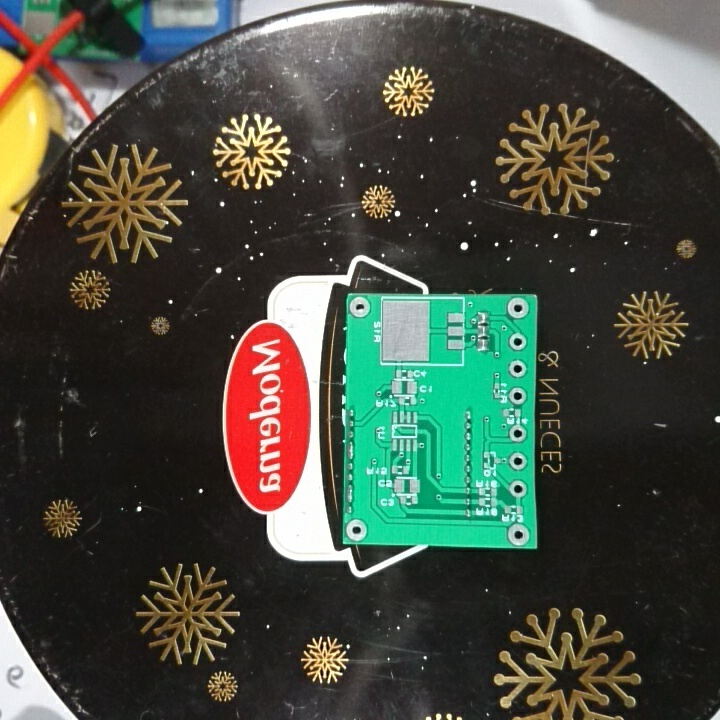F: (505, 519, 531, 546), (505, 295, 531, 321), (345, 515, 368, 540), (505, 451, 530, 472), (505, 357, 527, 380), (348, 297, 372, 318), (506, 330, 528, 352), (507, 476, 528, 498), (507, 385, 528, 406), (507, 422, 528, 443)
P: (345, 439, 359, 460), (345, 483, 358, 503)
